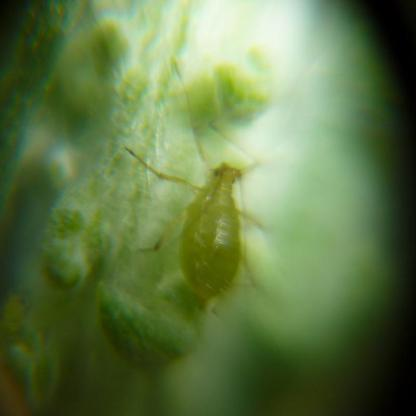aphid: (146, 132, 262, 314)
